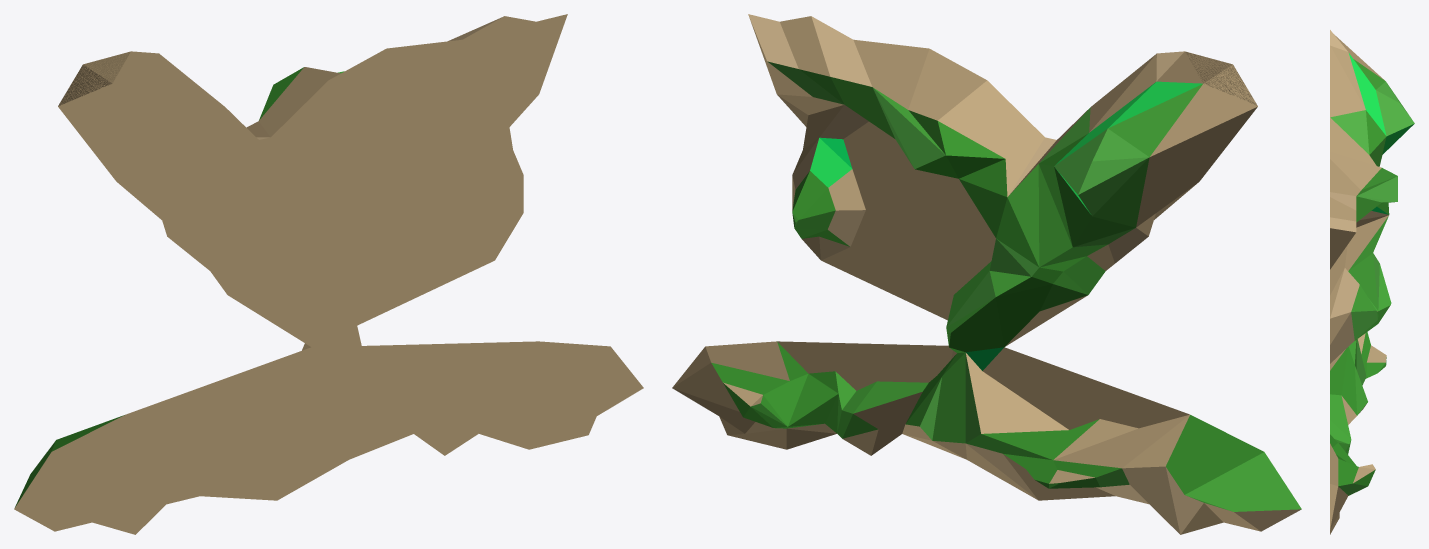
The model's file is desert_middle_mountain_2.fbx.
3 renders of one model, left to right at view 1: azimuth 30°, elevation 25°; view 2: azimuth 150°, elevation 25°; view 3: azimuth 270°, elevation 25°, orthographic. The views are drawn at different scales.
Visible parts, largest first — view 1: desert_middle_mountain_2; view 2: desert_middle_mountain_2; view 3: desert_middle_mountain_2.
Part boxes in pixels (x1=…): desert_middle_mountain_2: x1=14, y1=14, x2=643, y2=534; desert_middle_mountain_2: x1=672, y1=14, x2=1301, y2=534; desert_middle_mountain_2: x1=1330, y1=30, x2=1414, y2=534.
Bounding box in the file's own units: 1070 × 805 × 177.
